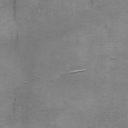finishing roll printing: (62, 68, 87, 76)
